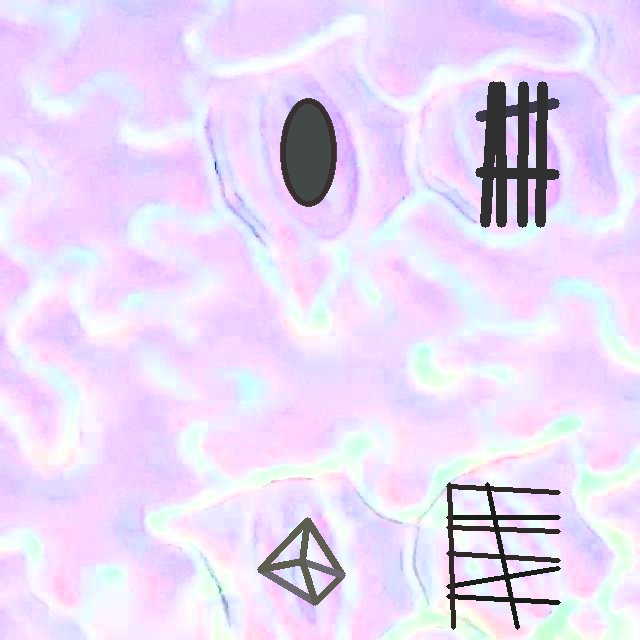close: (476, 81, 558, 226)
open: (446, 482, 560, 629), (258, 517, 345, 605), (280, 97, 335, 206)
